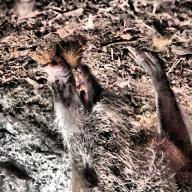boar: (16, 38, 192, 192)
